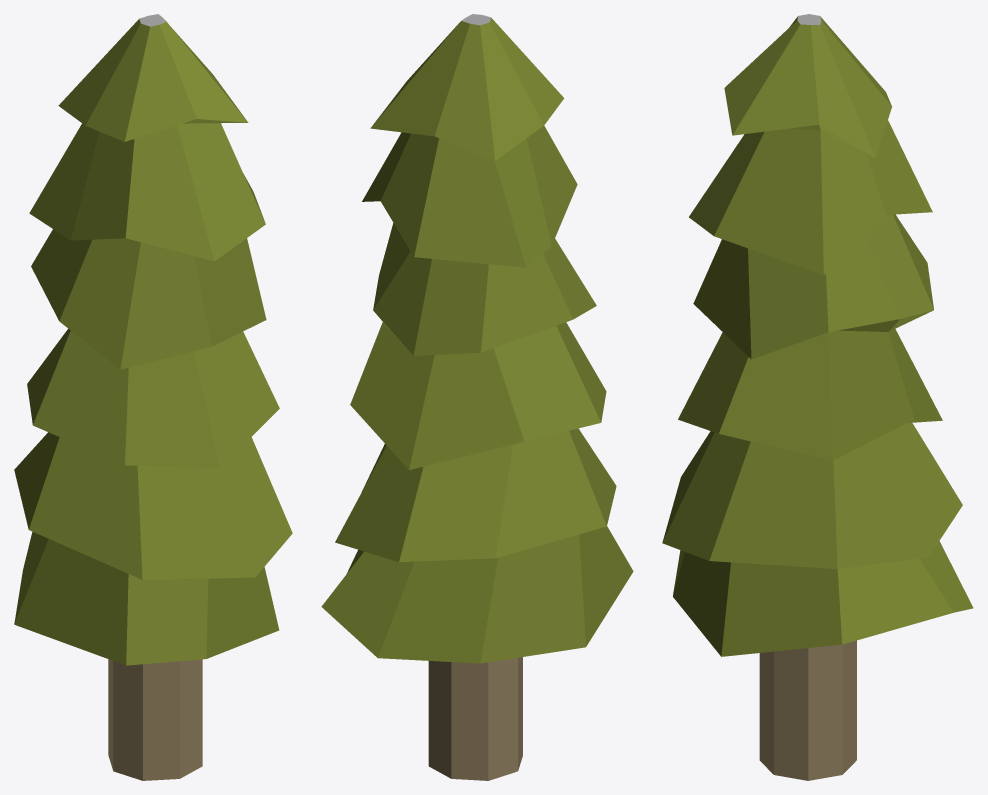
The model's file is Tree_pine_3.fbx.
The picture shows the model from 3 angles, left to right: view 1: azimuth 30°, elevation 25°; view 2: azimuth 150°, elevation 25°; view 3: azimuth 270°, elevation 25°; orthographic projection.
Parts seen in each view (by area): view 1: pinetree_cylinder; view 2: pinetree_cylinder; view 3: pinetree_cylinder.
Part boxes in pixels (box(x1,y1,x2,y2)): pinetree_cylinder: box(14, 14, 292, 780); pinetree_cylinder: box(321, 14, 633, 780); pinetree_cylinder: box(662, 14, 973, 780).
Size of the model in its own units: 1.68 by 4.94 by 1.89.
